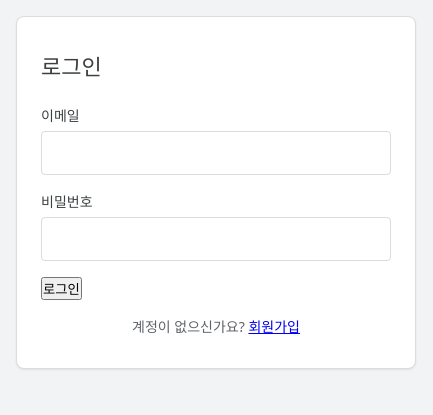
it: LoginPage › 네트워크 오류 시 일반 에러 메시지 표시
In the field labelled "이메일": (216, 153) top-left (41, 131), bottom-right (391, 175), type "test@test.com"
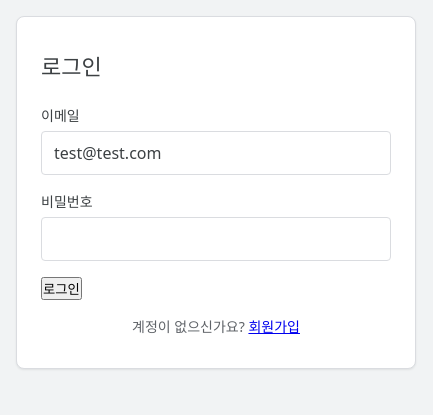
In the password field labelled "비밀번호": (216, 239) top-left (41, 217), bottom-right (391, 261), type "pass1234"
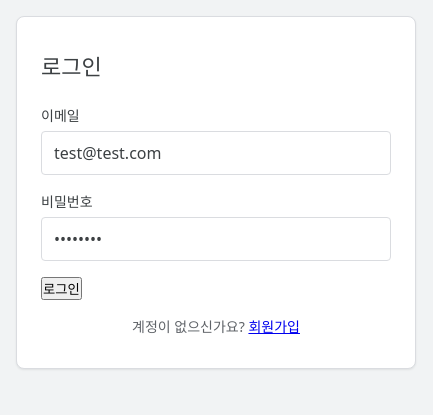
Click the button "로그인": (61, 288) top-left (41, 277), bottom-right (82, 300)
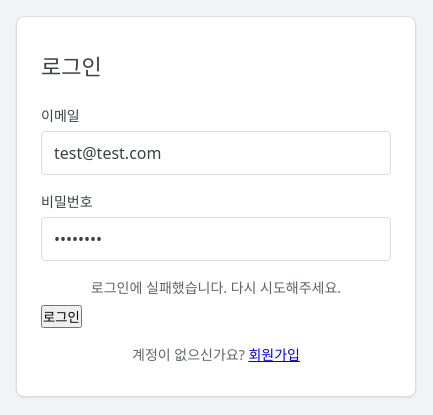
Now the text "로그인에 실패했습니다. 다시 시도해주세요." is shown, box top-left (91, 278), bottom-right (341, 297)
